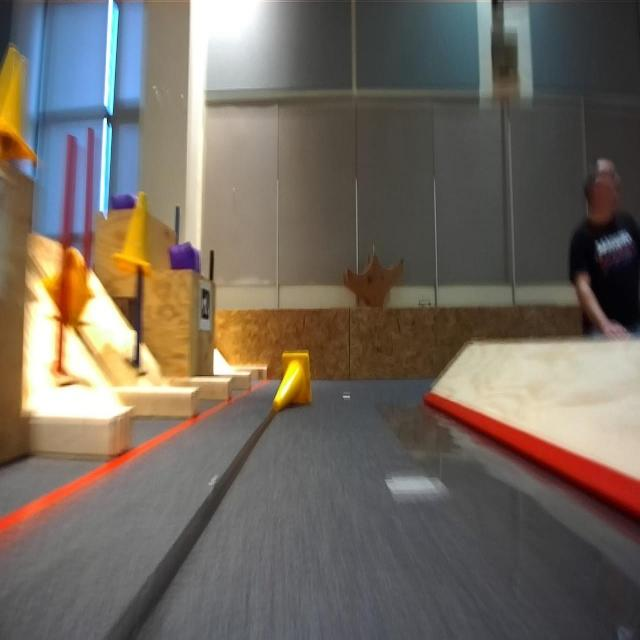frc_cone: (0, 42, 36, 168), (116, 190, 156, 278), (272, 350, 316, 412)
frc_cube: (171, 239, 199, 273), (111, 193, 138, 210)
